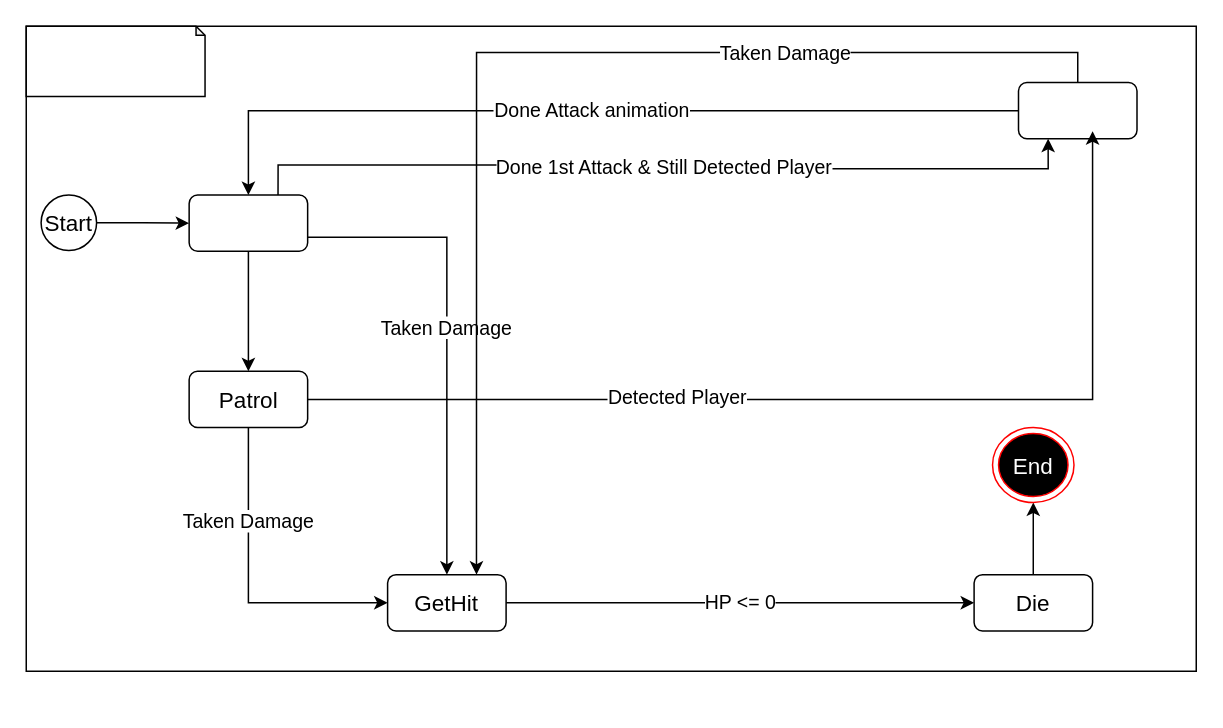
Image size: 1223x728. Some labels were removed from this diagram. The centre of each missing label's shape, as x and y in pixels:
Attack: (1077,110)
Idle: (248,222)
Skeleton SM: (115,61)
